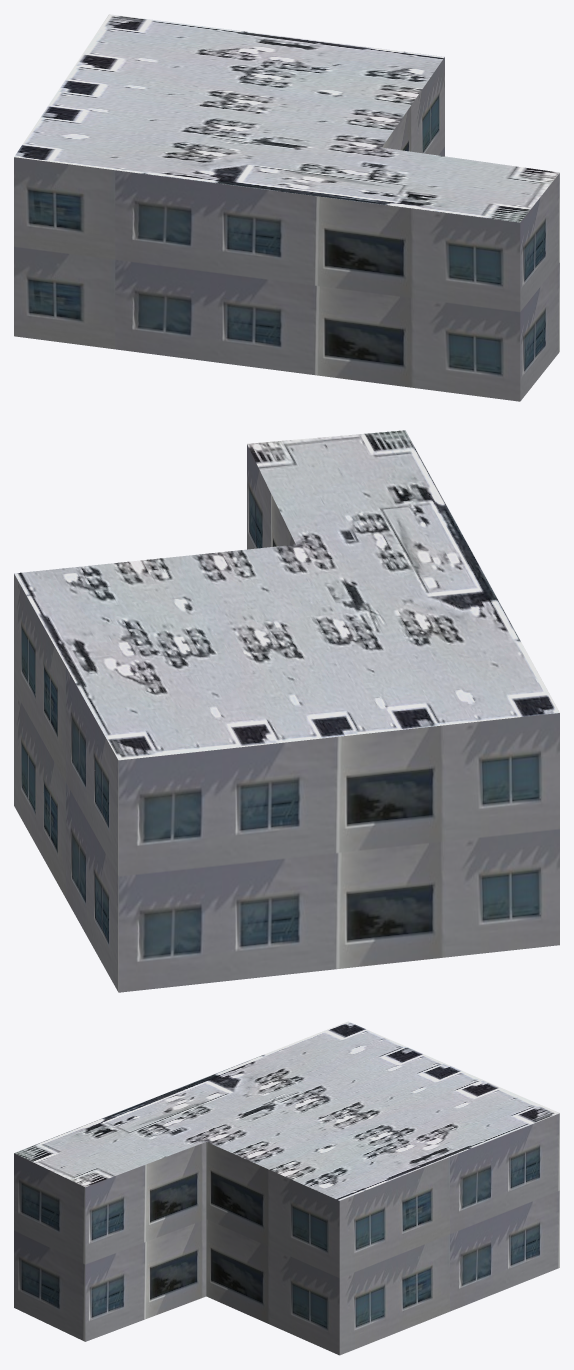
File: ResTex__1324.fbx
The picture shows the model from 3 angles, top to bottom: view 1: azimuth 30°, elevation 25°; view 2: azimuth 150°, elevation 25°; view 3: azimuth 270°, elevation 25°; orthographic projection. The views are drawn at different scales.
Parts seen in each view (by area): view 1: CityEngineMaterial_10_m, CityEngineMaterial_4_m; view 2: CityEngineMaterial_10_m, CityEngineMaterial_4_m; view 3: CityEngineMaterial_10_m, CityEngineMaterial_4_m.
Boxes of the visible parts, bbox=[...] form: CityEngineMaterial_10_m: bbox=[14, 57, 559, 401]; CityEngineMaterial_4_m: bbox=[14, 14, 559, 222]; CityEngineMaterial_10_m: bbox=[14, 444, 559, 992]; CityEngineMaterial_4_m: bbox=[14, 430, 559, 760]; CityEngineMaterial_10_m: bbox=[14, 1113, 559, 1355]; CityEngineMaterial_4_m: bbox=[14, 1021, 559, 1200].
Bounding box in the file's own units: 14.93 × 6 × 19.2.
2 materials, 2 textured.
